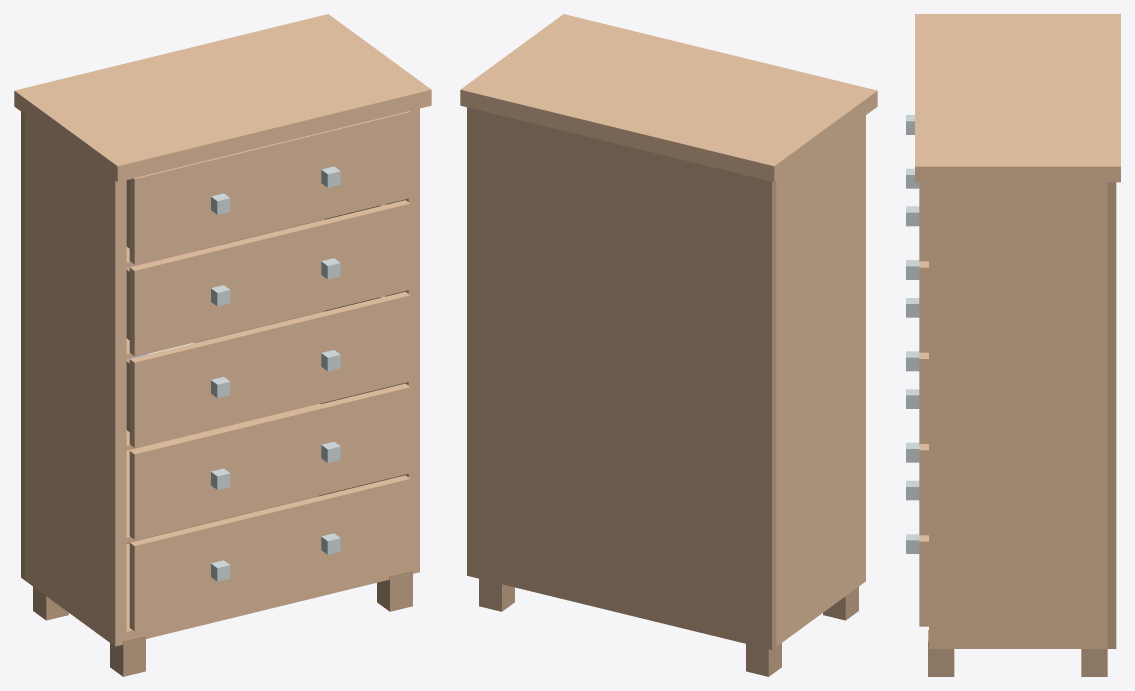
Rendered from dresserTallboy.glb.
3 views of the same model, side by side, from view 1: azimuth 30°, elevation 25°; view 2: azimuth 150°, elevation 25°; view 3: azimuth 270°, elevation 25° (orthographic).
Parts seen in each view (by area): view 1: dresserTallboy, anim:drawer2, anim:drawer3, anim:drawer1; view 2: dresserTallboy; view 3: dresserTallboy, anim:drawer2, anim:drawer3, anim:drawer1.
Part boxes in pixels (x1=…): dresserTallboy: x1=14, y1=14, x2=431, y2=676; anim:drawer2: x1=126, y1=200, x2=410, y2=356; anim:drawer3: x1=126, y1=292, x2=410, y2=447; anim:drawer1: x1=126, y1=111, x2=410, y2=264; dresserTallboy: x1=460, y1=14, x2=877, y2=676; dresserTallboy: x1=906, y1=14, x2=1120, y2=676; anim:drawer2: x1=906, y1=206, x2=928, y2=352; anim:drawer3: x1=906, y1=298, x2=928, y2=443; anim:drawer1: x1=906, y1=115, x2=928, y2=261.
Bounding box in the file's own units: 0.412 × 0.65 × 0.245.
